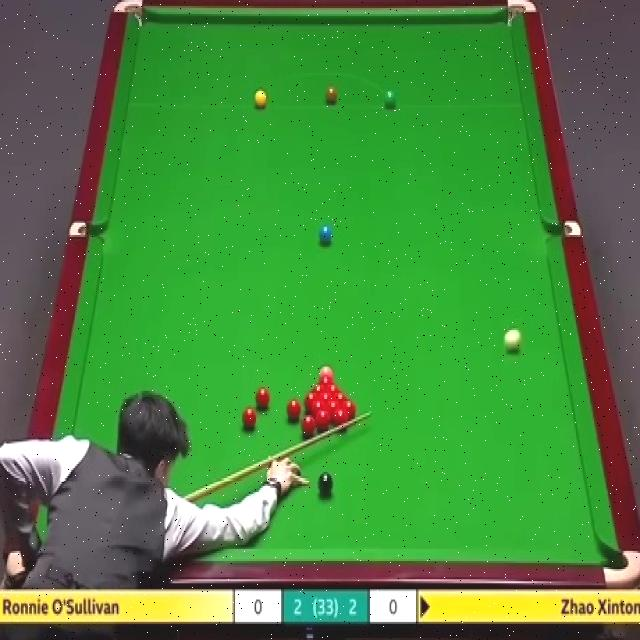black-ball: (317, 470, 333, 498)
blue-ball: (320, 225, 333, 248)
brown-ball: (325, 88, 337, 106)
green-ball: (384, 90, 396, 109)
pink-ball: (318, 363, 334, 379)
red-ball: (254, 385, 273, 411), (317, 408, 333, 432), (302, 415, 318, 439), (340, 400, 358, 420), (286, 397, 302, 419), (334, 410, 349, 431), (242, 407, 256, 428), (311, 400, 326, 416), (327, 401, 341, 418), (332, 392, 350, 403), (324, 385, 342, 395), (318, 393, 334, 403), (304, 393, 318, 404), (317, 375, 334, 384), (309, 385, 325, 394)
white-ball: (504, 326, 521, 352)
yellow-ball: (253, 88, 268, 110)
